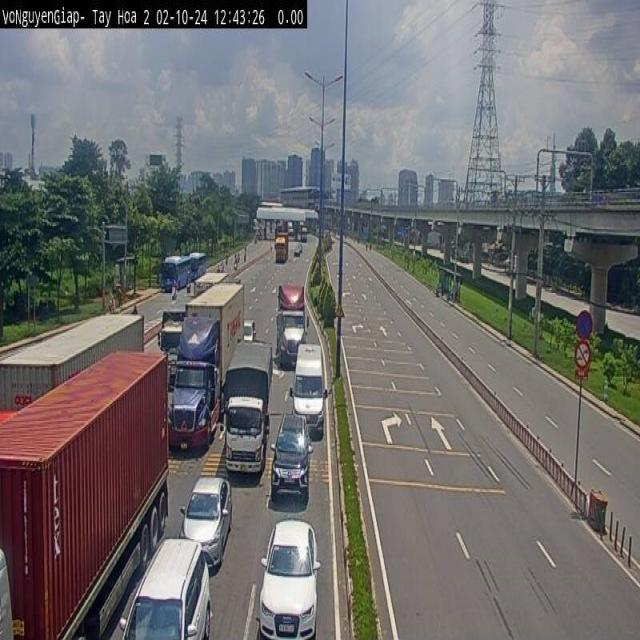bus: (164, 256, 194, 300), (186, 238, 212, 280)
car: (118, 536, 212, 639), (258, 518, 320, 638), (178, 475, 232, 569), (270, 409, 313, 518), (244, 308, 262, 351)
container-truck: (20, 352, 149, 609), (274, 273, 308, 367)
truck: (0, 348, 169, 638), (298, 328, 326, 434), (274, 226, 292, 269)
